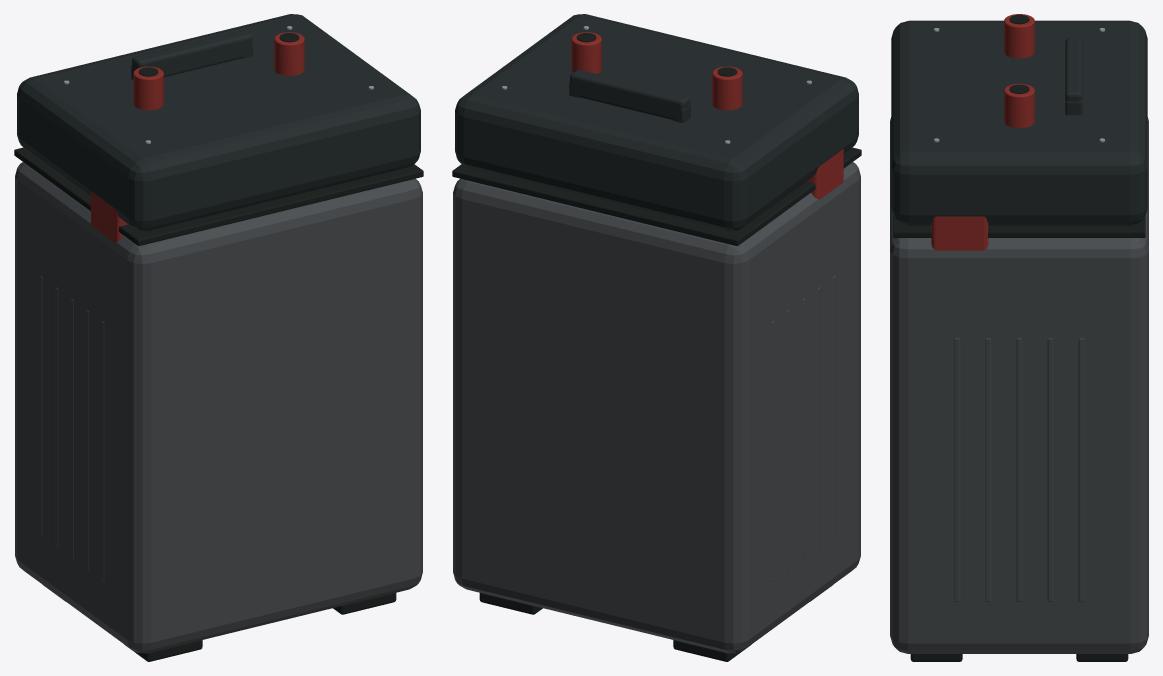
The model's file is filter-fluval-307.glb.
The picture shows the model from 3 angles, left to right: view 1: azimuth 30°, elevation 25°; view 2: azimuth 150°, elevation 25°; view 3: azimuth 270°, elevation 25°; orthographic projection.
Visible parts, largest first — view 1: Fluval 307 Canister Filter · original housing; view 2: Fluval 307 Canister Filter · original housing; view 3: Fluval 307 Canister Filter · original housing.
Part boxes in pixels (<box>): Fluval 307 Canister Filter · original housing: <box>14,14,423,661</box>; Fluval 307 Canister Filter · original housing: <box>452,14,861,661</box>; Fluval 307 Canister Filter · original housing: <box>890,14,1148,661</box>.
Size of the model in its own units: 0.24 by 0.42 by 0.18.
